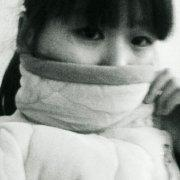WRONG: (43, 10, 161, 128)
